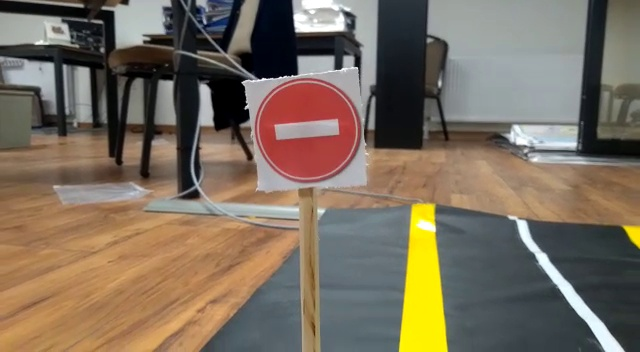girisi_olmayan_yol: (249, 76, 363, 188)
